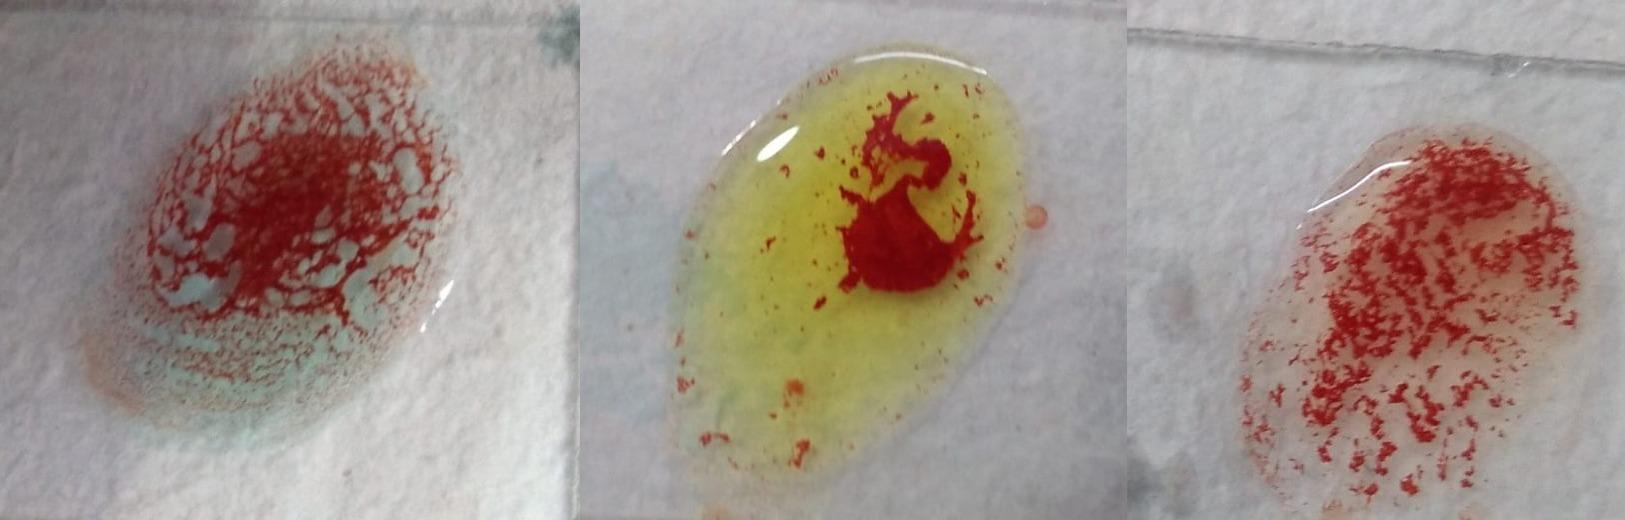A: (91, 31, 471, 433)
B: (673, 48, 1027, 483)
D: (1234, 124, 1594, 520)
